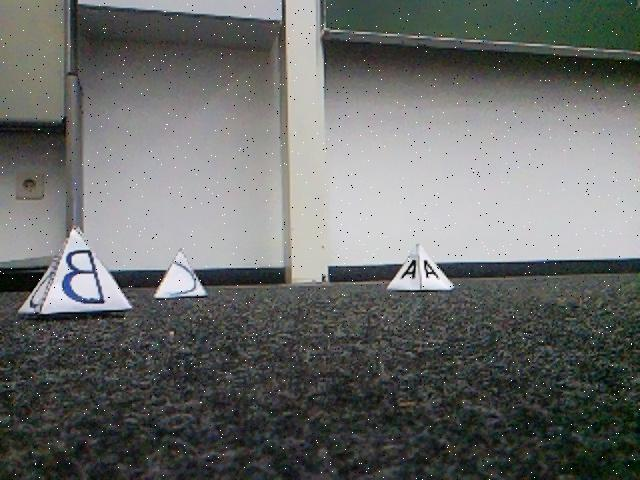A: (386, 243, 454, 293)
B: (15, 229, 130, 313)
C: (155, 246, 205, 300)
